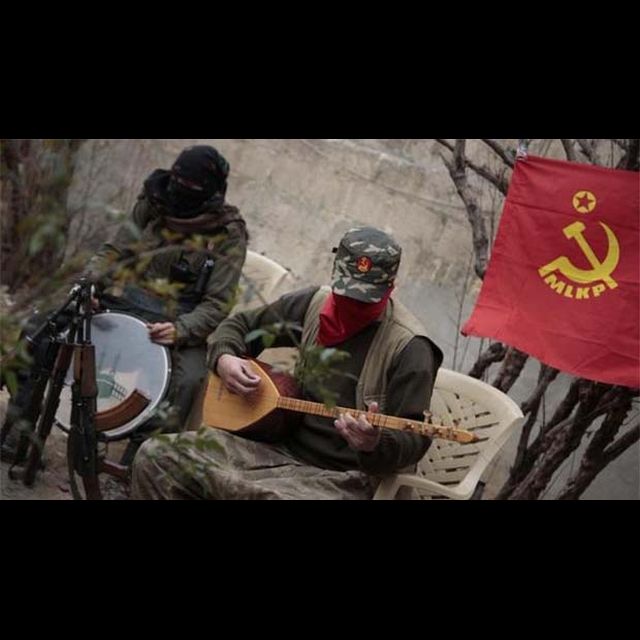MLKP: (538, 183, 628, 310)
